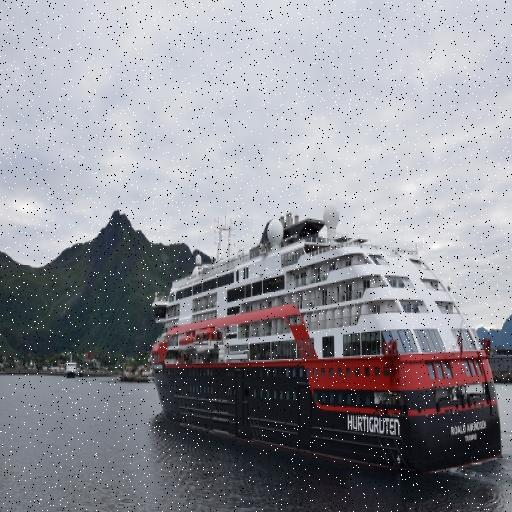cruises: (147, 204, 507, 477)
